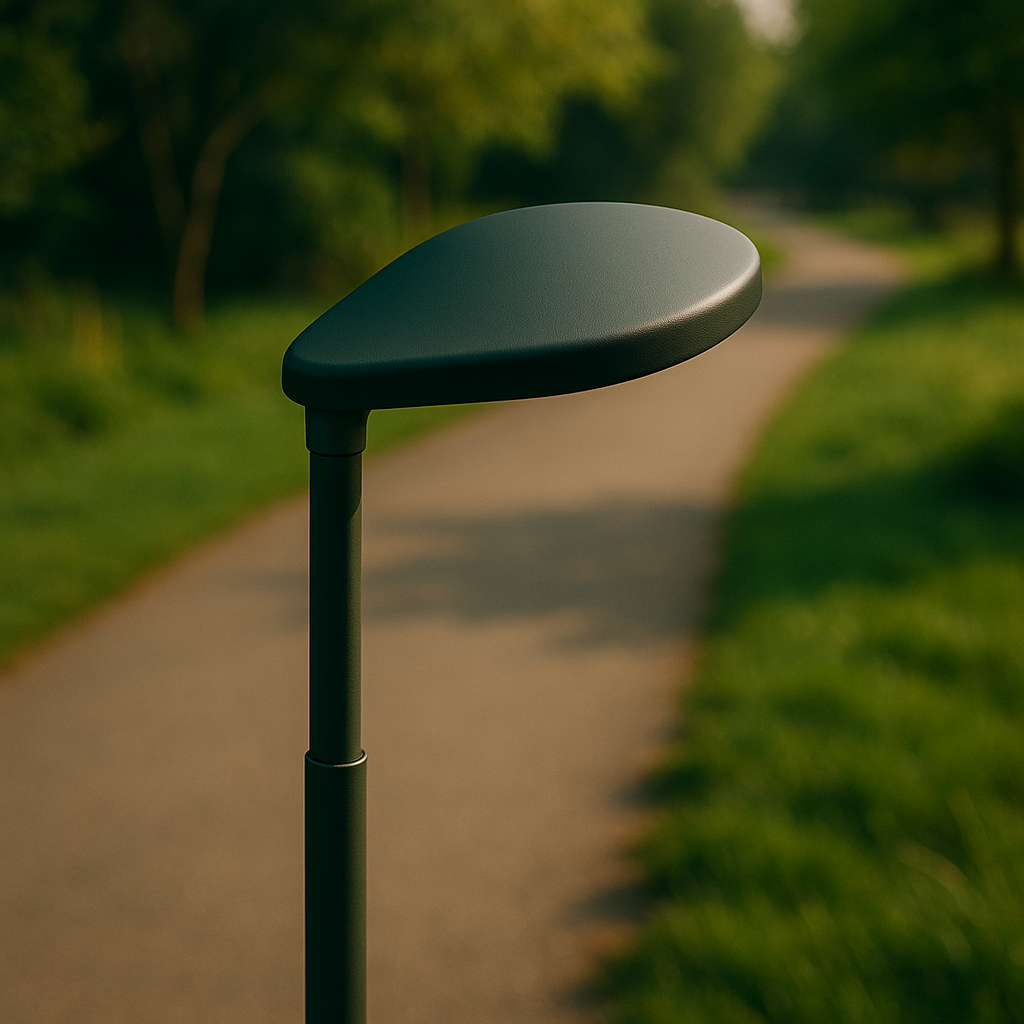Top_Street_Light: (269, 195, 788, 409)
